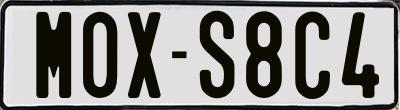0: (80, 9, 115, 98)
4: (340, 10, 379, 97)
8: (243, 9, 285, 101)
C: (293, 11, 333, 102)
M: (34, 12, 75, 98)
S: (198, 11, 238, 103)
X: (127, 9, 161, 100)
